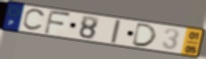3: (161, 28, 182, 52)
8: (78, 16, 100, 40)
C: (21, 9, 48, 33)
D: (130, 22, 159, 48)
F: (43, 9, 73, 36)
I: (109, 19, 122, 44)
